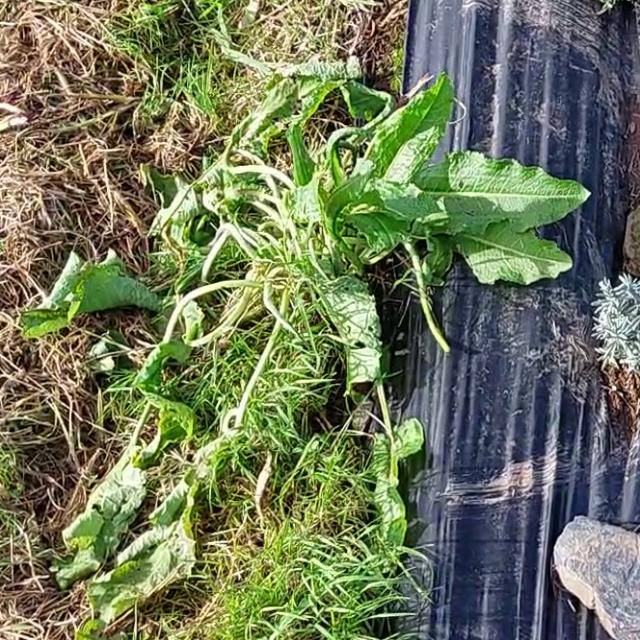organic waste: (0, 85, 574, 622)
